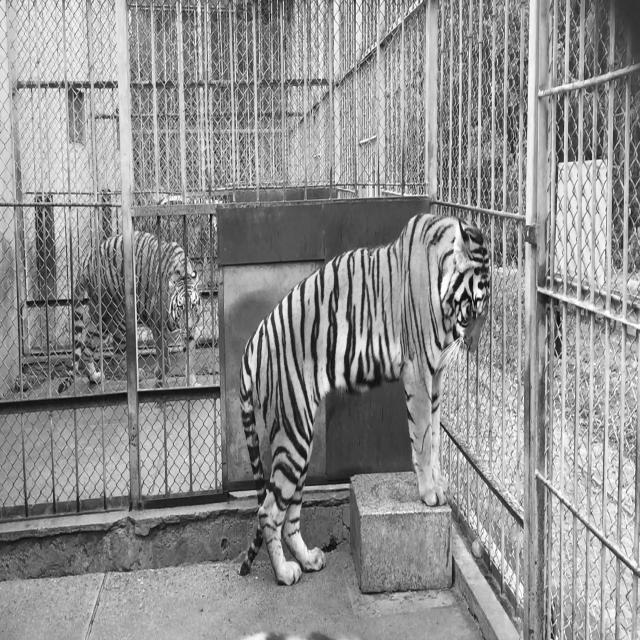Tiger: (237, 210, 491, 585), (70, 228, 202, 390)
